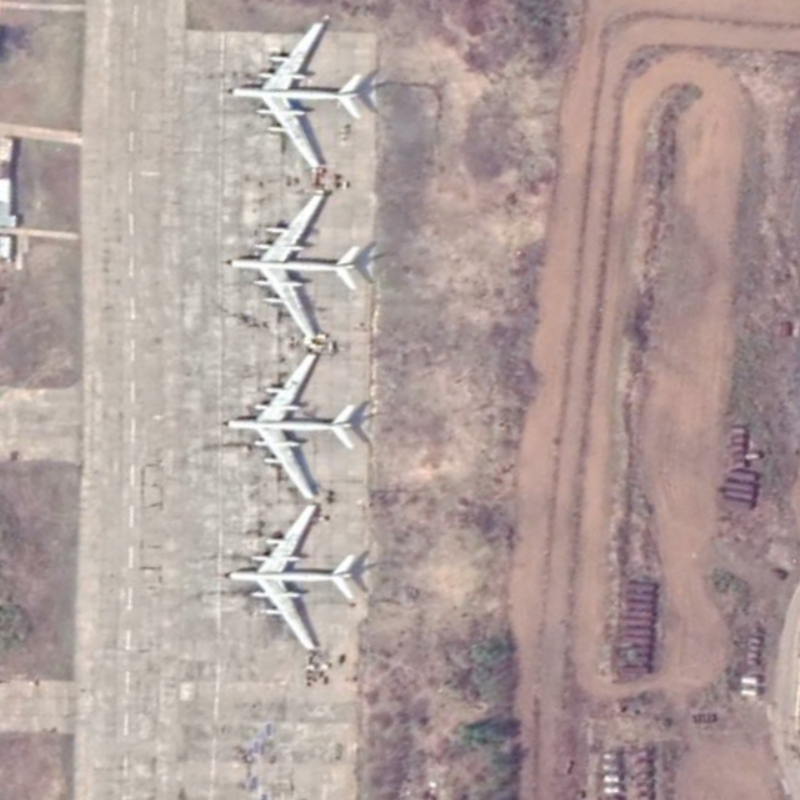A17: (220, 10, 366, 177), (219, 184, 362, 339), (217, 347, 359, 502), (220, 501, 360, 656)
